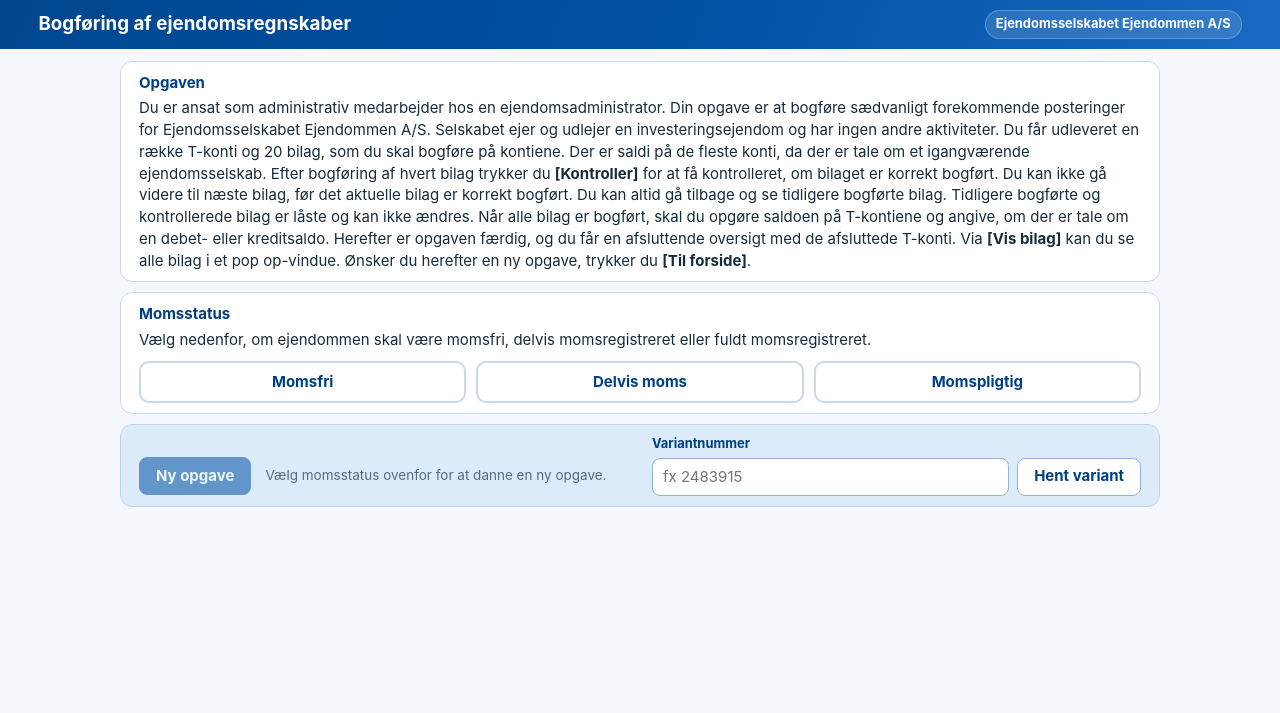
Test: Boks 1 (6.2) › går tilbage til forsiden med [Til forside]
This screenshot has width=1280, height=713.
Type "3000001" into the field labelled "Variantnummer". click: (831, 477)
box: [652, 458, 1009, 496]
Then press Enter
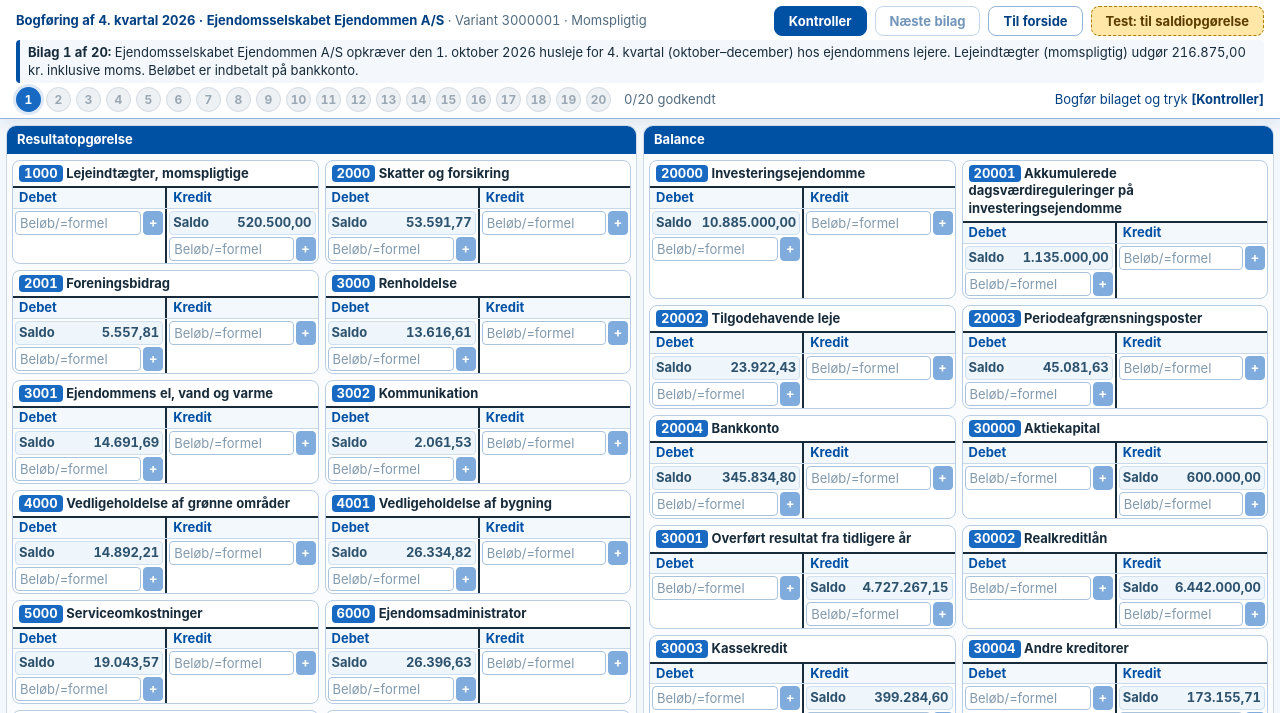
Expected: the heading "Resultatopgørelse" is shown, [7, 126, 636, 154]
Click the button "Til forside". click: (1036, 21)
box: [988, 6, 1083, 36]
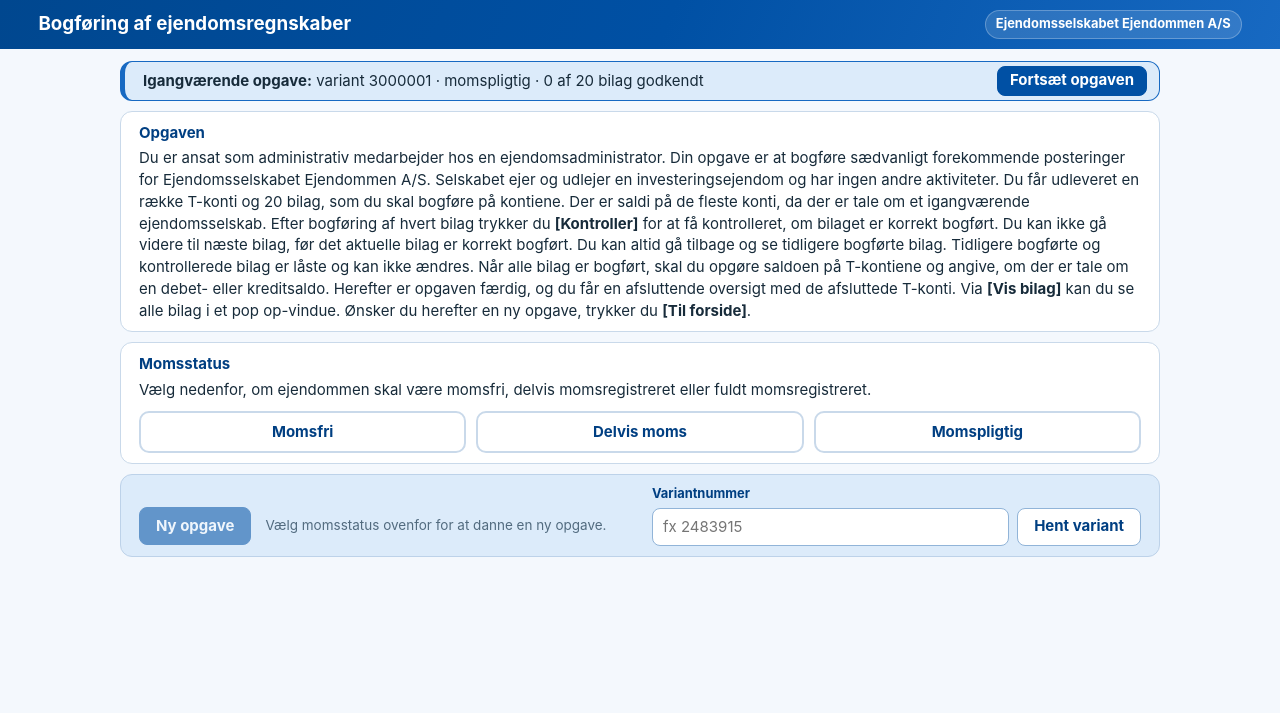
Expected: the button "Ny opgave" is shown, [139, 507, 251, 545]
